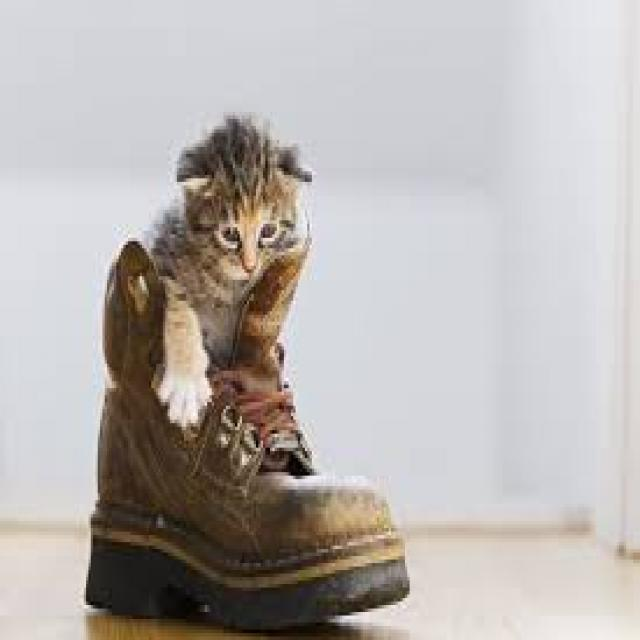Cat: (143, 104, 315, 434)
